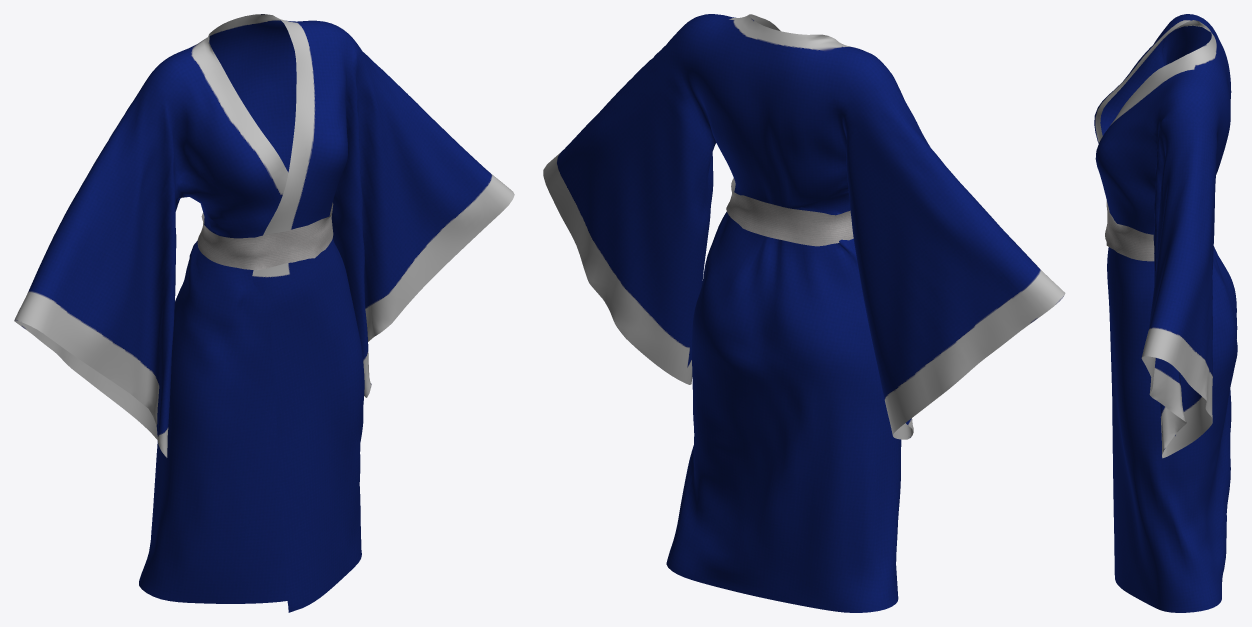
Rendered from cloths01.fbx.
3 renders of one model, left to right at view 1: azimuth 30°, elevation 25°; view 2: azimuth 150°, elevation 25°; view 3: azimuth 270°, elevation 25°, orthographic. The views are drawn at different scales.
Parts seen in each view (by area): view 1: quadremesh1, yd_low; view 2: quadremesh1, yd_low; view 3: quadremesh1, yd_low.
Part boxes in pixels (x1,y1,x2,y2): quadremesh1: (14,14,514,612); yd_low: (197,202,333,270); quadremesh1: (543,14,1065,612); yd_low: (726,178,853,246); quadremesh1: (1094,14,1237,612); yd_low: (1105,200,1154,261).
Size of the model in its own units: 109 by 118 by 28.27.
